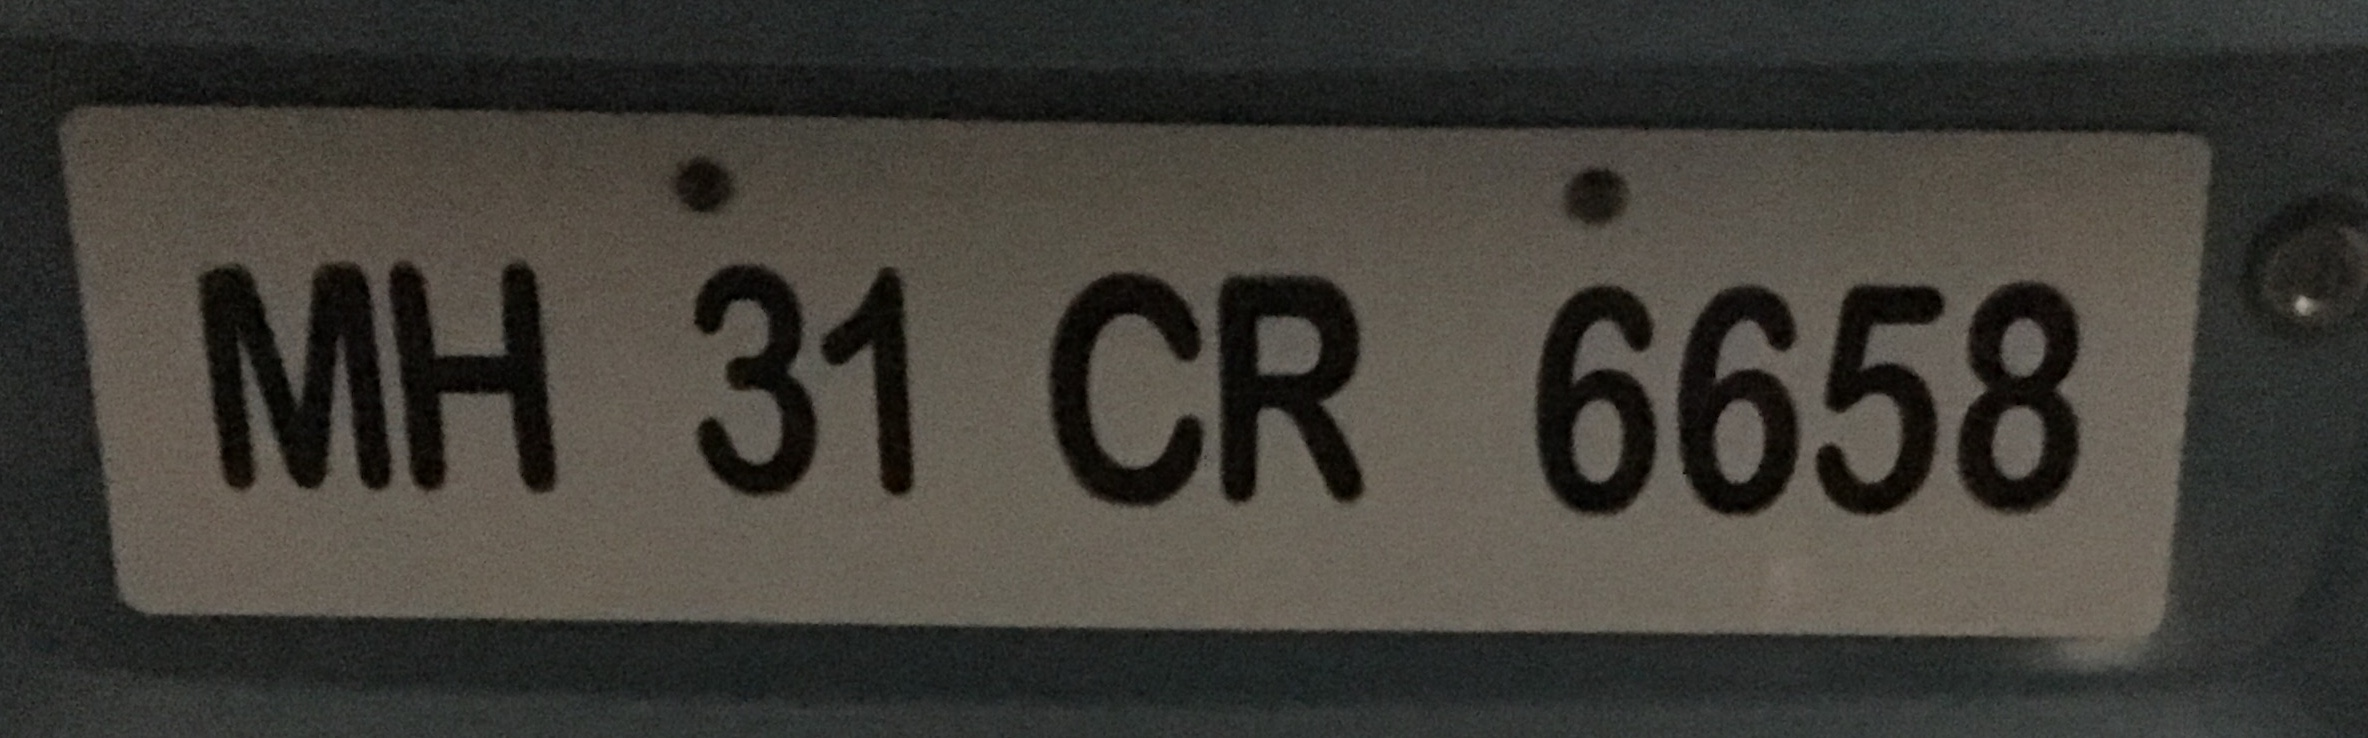numberplate: (50, 95, 2230, 648)
